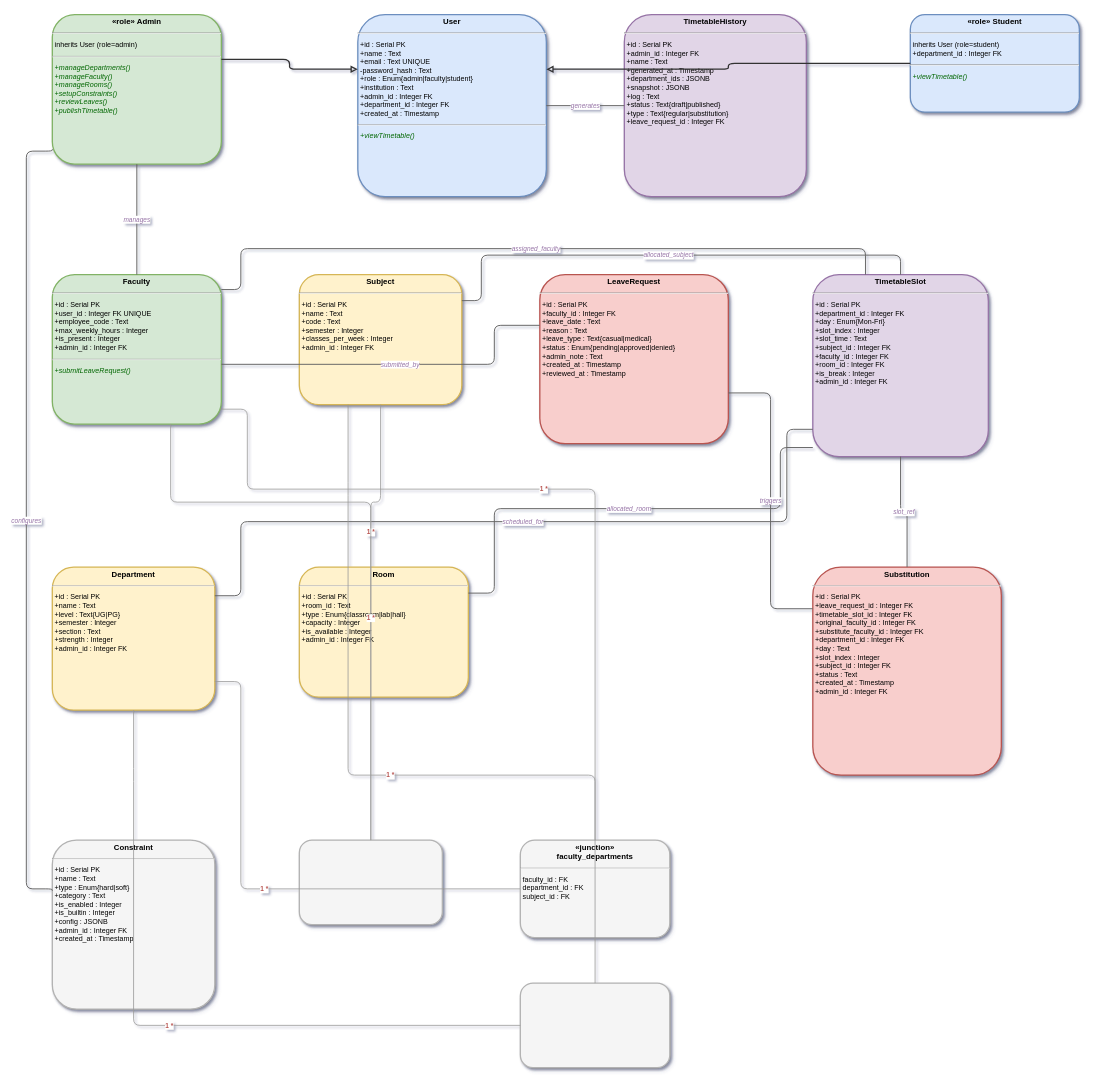
This 1099x1087 diagram has some shape labels left out. Each missing label, with the centre of its shape:
«junction» faculty_subjects faculty_id : FK subject_id : FK: (371,883)
«junction» subject_departments subject_id : FK department_id : FK: (595,1026)
